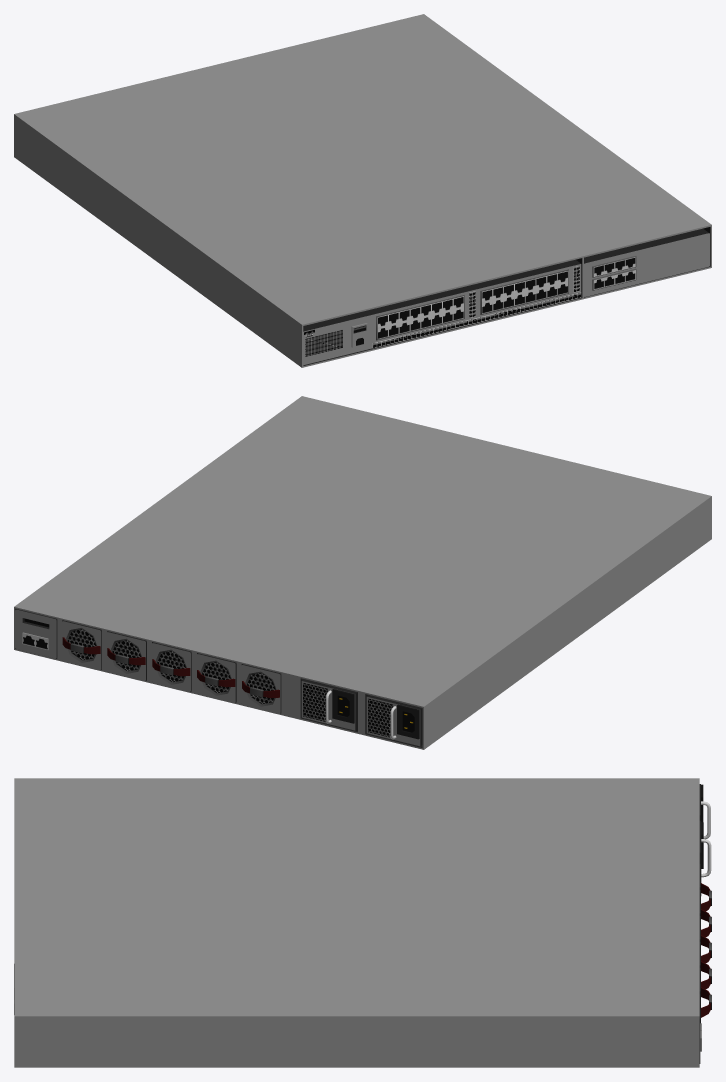
File: CISCO_WS_C4500X.fbx
3 views of the same model, one above another, from view 1: azimuth 30°, elevation 25°; view 2: azimuth 150°, elevation 25°; view 3: azimuth 270°, elevation 25° (orthographic). The views are drawn at different scales.
Parts seen in each view (by area): view 1: CISCO_WS_C4500X; view 2: CISCO_WS_C4500X; view 3: CISCO_WS_C4500X.
Part boxes in pixels (x1,y1,x2,y2): CISCO_WS_C4500X: [14, 14, 711, 367]; CISCO_WS_C4500X: [14, 396, 711, 749]; CISCO_WS_C4500X: [14, 778, 711, 1067].
Size of the model in its own units: 438 by 44 by 543.
18 materials, 3 textured.
